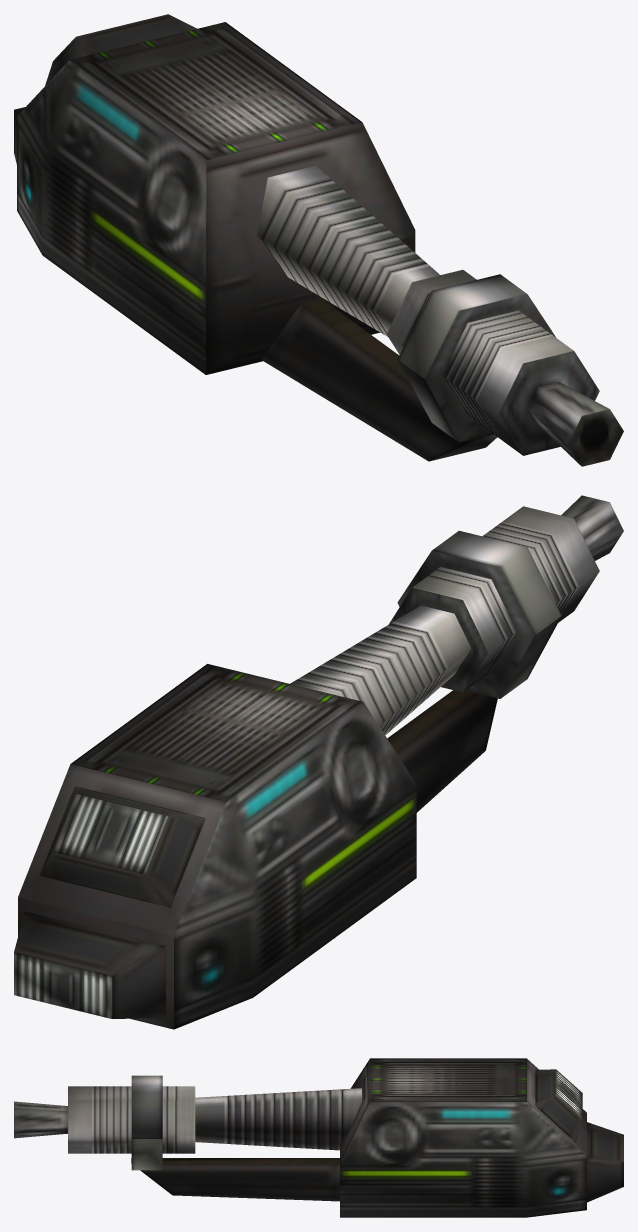
The model's file is wep09.glb.
3 renders of one model, top to bottom at view 1: azimuth 30°, elevation 25°; view 2: azimuth 150°, elevation 25°; view 3: azimuth 270°, elevation 25°, orthographic. The views are drawn at different scales.
Parts seen in each view (by area): view 1: wep09; view 2: wep09; view 3: wep09.
Part boxes in pixels (<box>): wep09: <box>14,14,623,466</box>; wep09: <box>14,495,623,1029</box>; wep09: <box>14,1058,623,1217</box>.
Size of the model in its own units: 0.2594 by 0.2238 by 1.14.
Materials: 1 (1 with a texture image).
